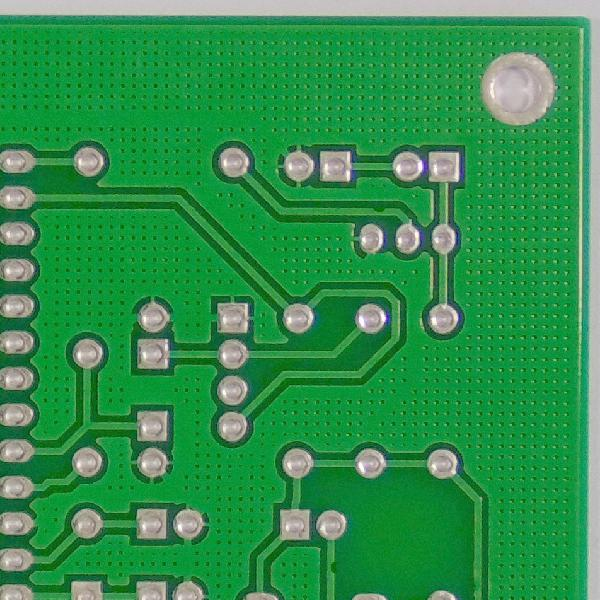mouse_bite: (369, 202, 392, 222), (325, 557, 342, 578)
